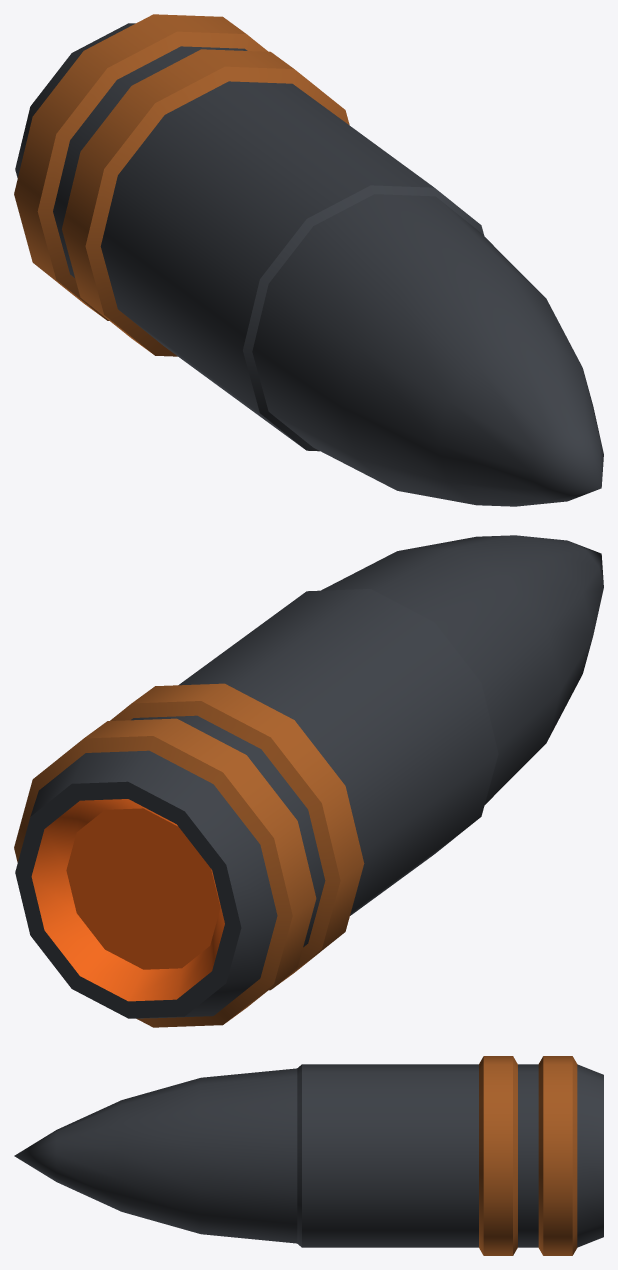
Rendered from shell_fort.fbx.
The picture shows the model from 3 angles, top to bottom: view 1: azimuth 30°, elevation 25°; view 2: azimuth 150°, elevation 25°; view 3: azimuth 270°, elevation 25°; orthographic projection. The views are drawn at different scales.
Parts seen in each view (by area): view 1: Shell_Fort; view 2: Shell_Fort; view 3: Shell_Fort.
Boxes of the visible parts, left/top/right/bottom form: Shell_Fort: left=14, top=14, right=603, bottom=506; Shell_Fort: left=14, top=535, right=603, bottom=1027; Shell_Fort: left=14, top=1056, right=603, bottom=1255.
Bounding box in the file's own units: 0.34 × 0.34 × 1.
